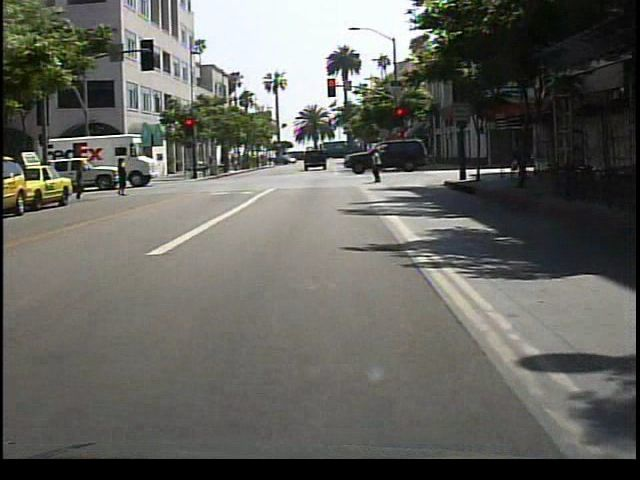person: (508, 137, 535, 189), (70, 157, 94, 202), (112, 156, 131, 200), (367, 147, 389, 183)
